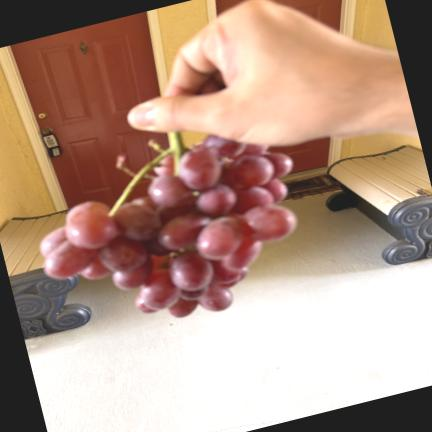grape_cluster: (40, 132, 296, 316)
